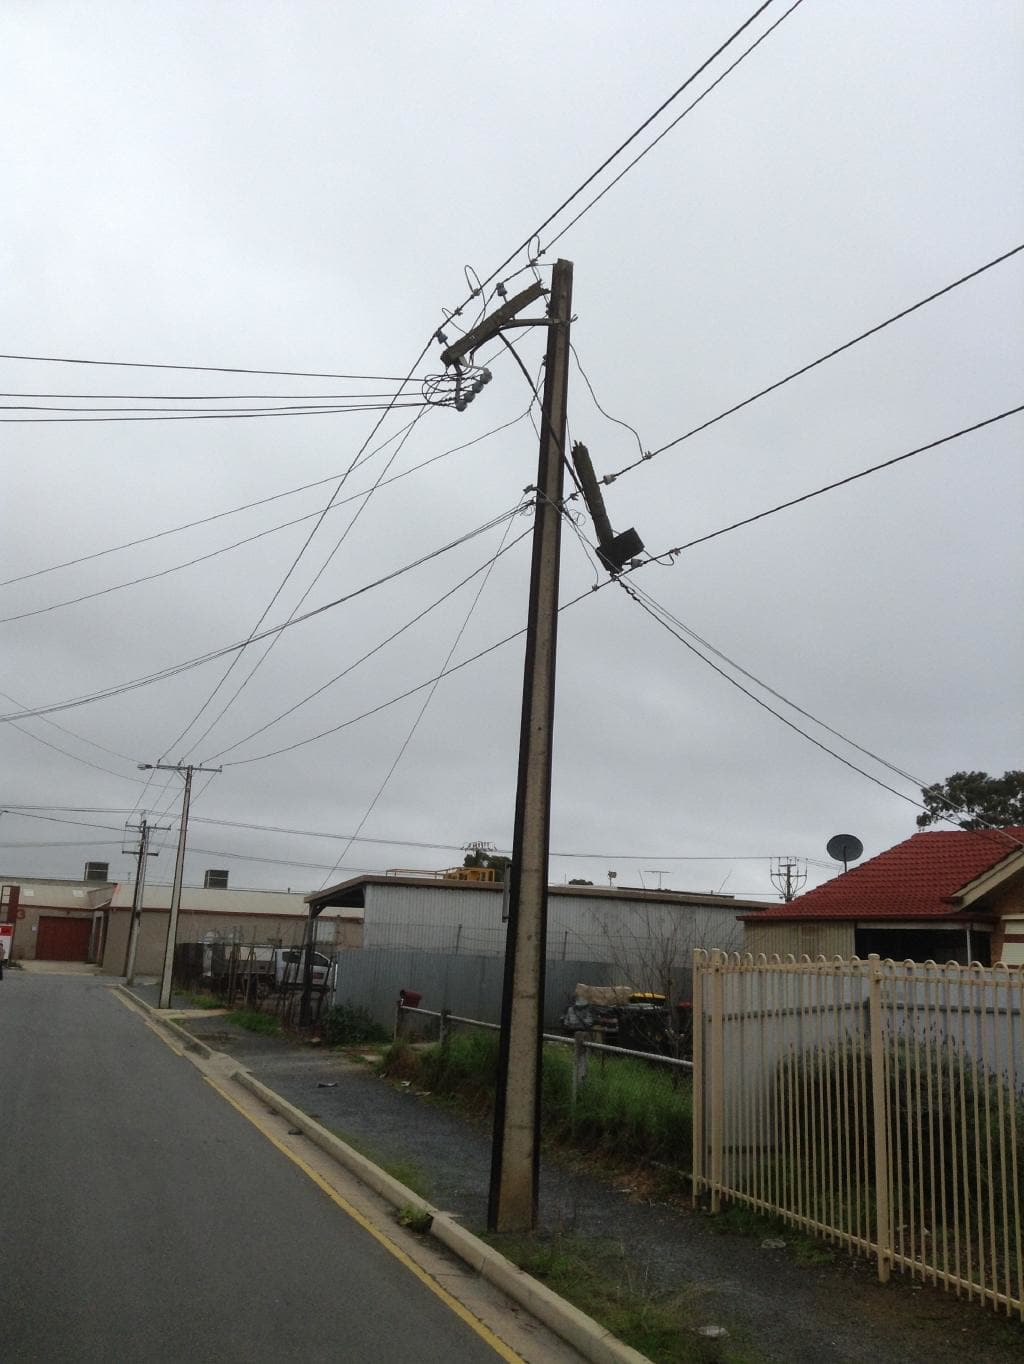pole: (397, 237, 672, 1275)
